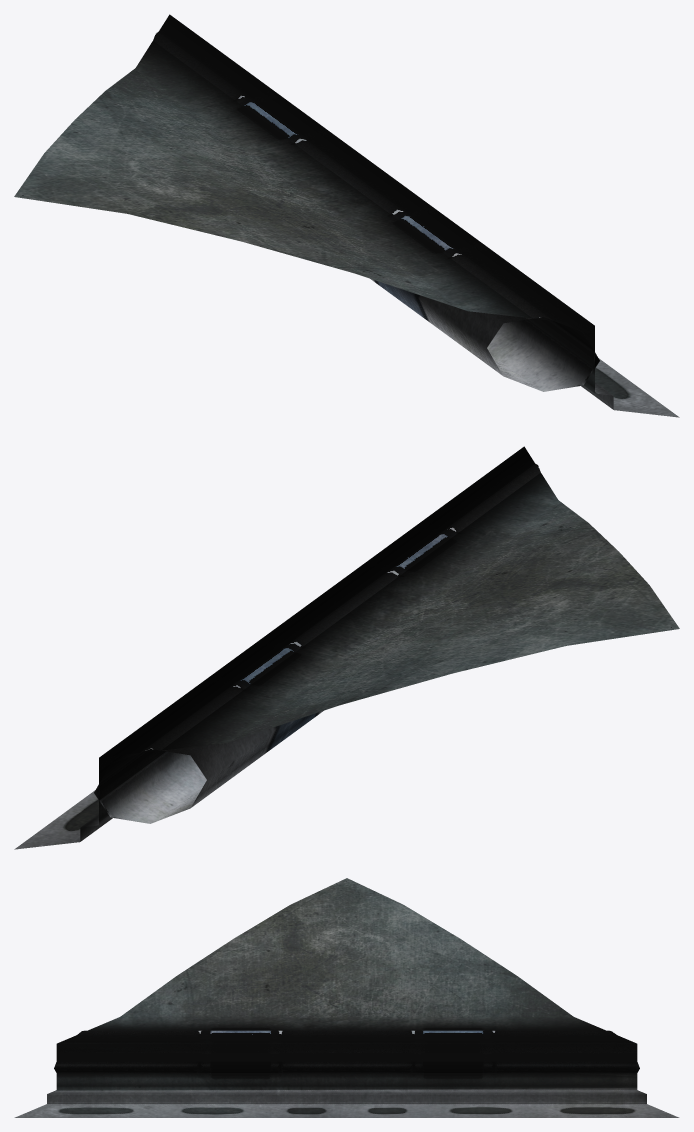
The model's file is Roof4.fbx.
3 renders of one model, top to bottom at view 1: azimuth 30°, elevation 25°; view 2: azimuth 150°, elevation 25°; view 3: azimuth 270°, elevation 25°, orthographic. The views are drawn at different scales.
Parts seen in each view (by area): view 1: Roof4; view 2: Roof4; view 3: Roof4.
Boxes of the visible parts, x1=… form: Roof4: x1=14, y1=14, x2=679, y2=417; Roof4: x1=14, y1=446, x2=679, y2=849; Roof4: x1=14, y1=878, x2=679, y2=1117.
Bounding box in the file's own units: 100 × 32.88 × 200.
